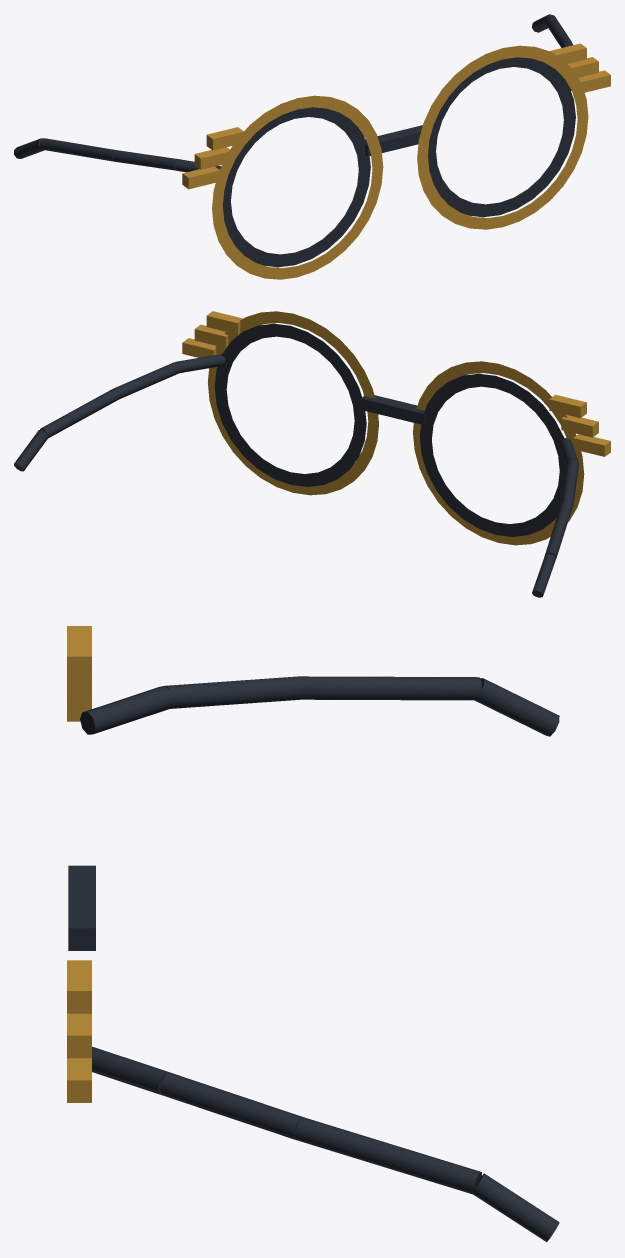
File: sunburst_frames.gltf
The picture shows the model from 3 angles, top to bottom: view 1: azimuth 30°, elevation 25°; view 2: azimuth 150°, elevation 25°; view 3: azimuth 270°, elevation 25°; orthographic projection. The views are drawn at different scales.
Parts seen in each view (by area): view 1: Sunburst Frames; view 2: Sunburst Frames; view 3: Sunburst Frames.
Boxes of the visible parts, x1=… form: Sunburst Frames: x1=14, y1=14, x2=610, y2=279; Sunburst Frames: x1=14, y1=311, x2=610, y2=597; Sunburst Frames: x1=67, y1=626, x2=559, y2=1241.
Bounding box in the file's own units: 0.4388 × 0.142 × 0.1773.
Materials: 2 (2 with a texture image).
